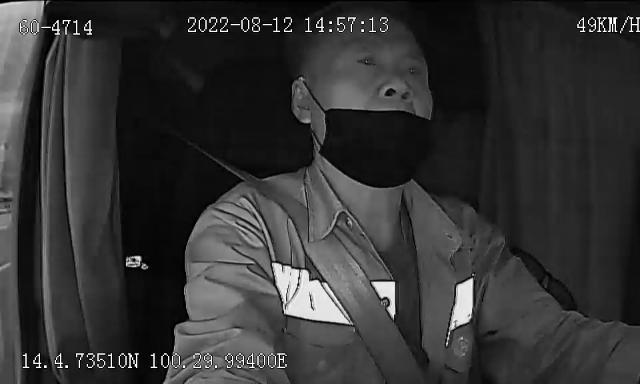SafeDriving: (371, 75, 412, 105), (396, 57, 427, 81)
Seatbelt: (212, 156, 430, 384)
